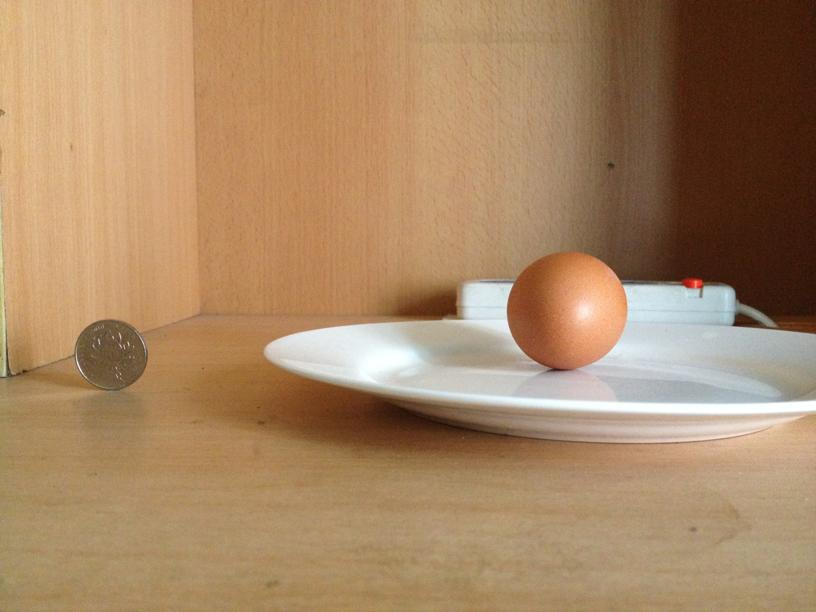coin: (70, 318, 147, 389)
egg: (502, 252, 626, 371)
